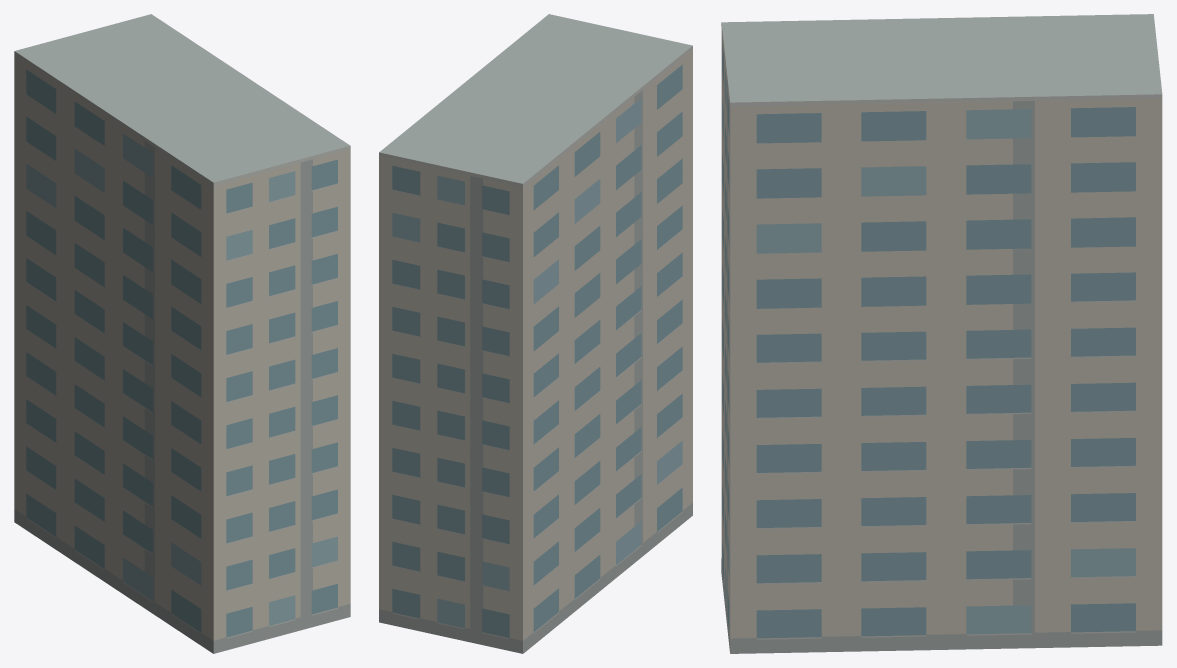
File: residential-c6a9bd51-de54-4e68-be45-192cf225271d.glb
3 renders of one model, left to right at view 1: azimuth 30°, elevation 25°; view 2: azimuth 150°, elevation 25°; view 3: azimuth 270°, elevation 25°, orthographic. The views are drawn at different scales.
Visible parts, largest first — view 1: residential-c6a9bd51-de54-4e68-be45-192cf225271d.tmp; view 2: residential-c6a9bd51-de54-4e68-be45-192cf225271d.tmp; view 3: residential-c6a9bd51-de54-4e68-be45-192cf225271d.tmp.
Part boxes in pixels (x1,y1,x2,y2): residential-c6a9bd51-de54-4e68-be45-192cf225271d.tmp: [14, 14, 350, 653]; residential-c6a9bd51-de54-4e68-be45-192cf225271d.tmp: [379, 14, 692, 653]; residential-c6a9bd51-de54-4e68-be45-192cf225271d.tmp: [721, 14, 1162, 653].
Size of the model in its own units: 11.38 by 33 by 23.92.
